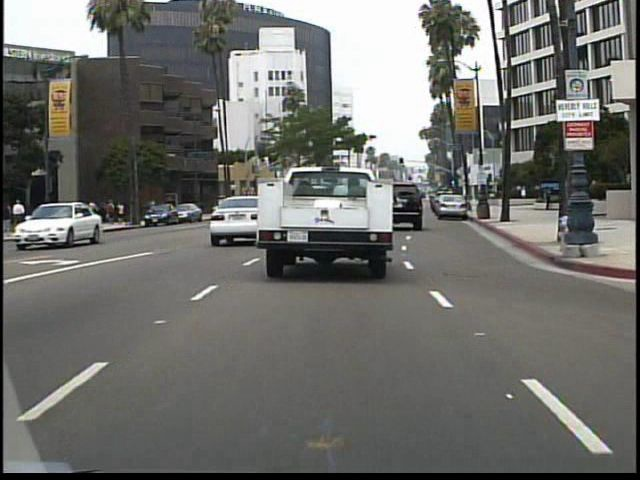person: (67, 198, 83, 233), (12, 196, 27, 231), (4, 199, 16, 237), (543, 183, 554, 213)
